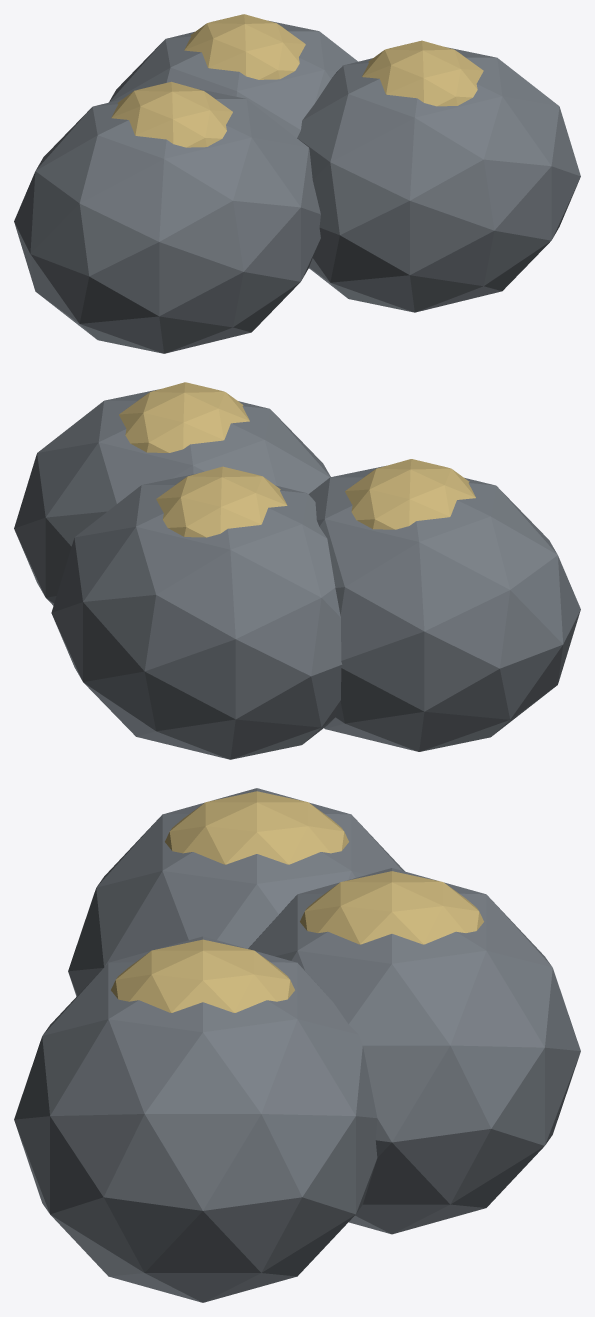
Rendered from oro.glb.
3 renders of one model, top to bottom at view 1: azimuth 30°, elevation 25°; view 2: azimuth 150°, elevation 25°; view 3: azimuth 270°, elevation 25°, orthographic. The views are drawn at different scales.
Parts seen in each view (by area): view 1: world; view 2: world; view 3: world.
Part boxes in pixels (x1,y1,x2,y2): world: [14, 14, 580, 353]; world: [14, 382, 580, 759]; world: [14, 788, 580, 1302].
Size of the model in its own units: 2.9 by 1.34 by 2.1.
